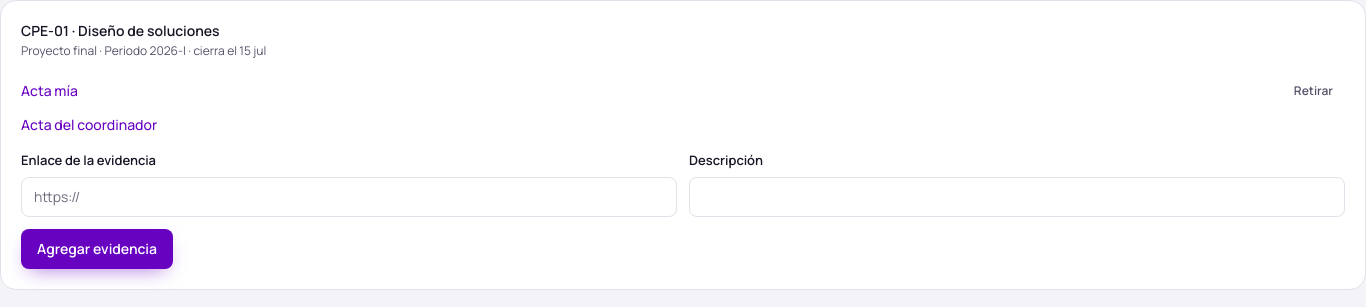
TarjetaEvaluacion — foco y confirmación › un doble clic en «Confirmar» retira una sola vez
Click the button with aria-label "Retirar Acta mía". click: (1313, 91)
box: [1282,75,1345,107]
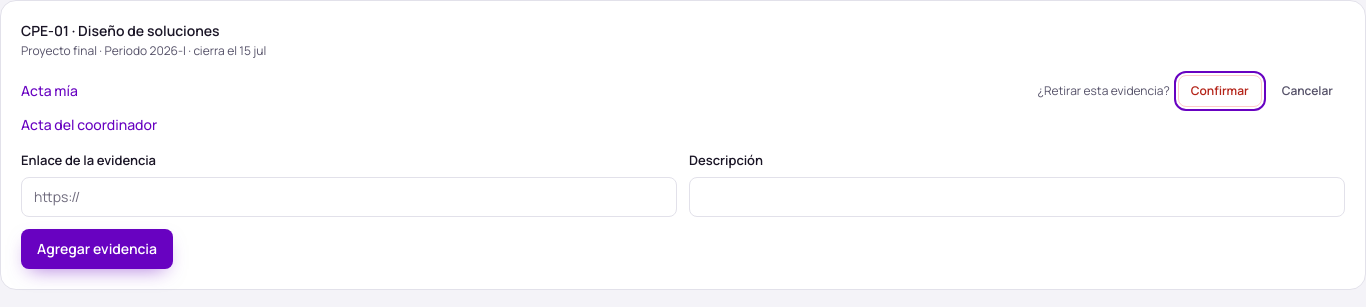
Double-click the button "Confirmar" at (1220, 91), box [1178,75,1262,107]
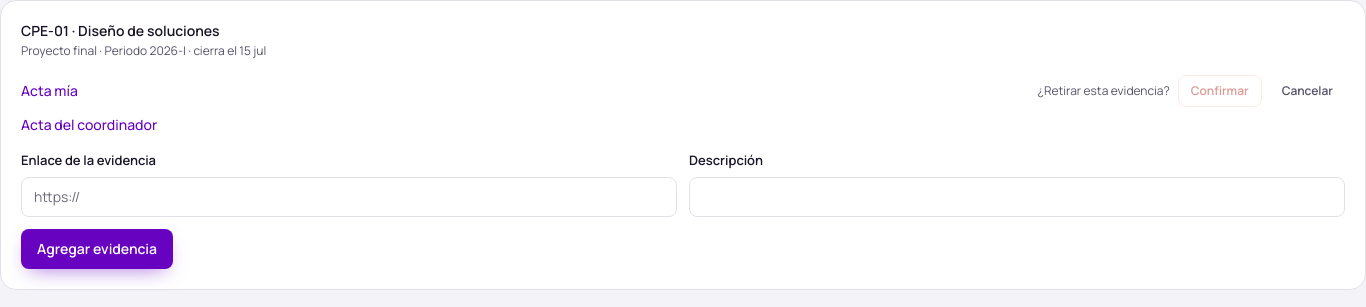
Expected: the button "Confirmar" is disabled, [1178,75,1262,107]
